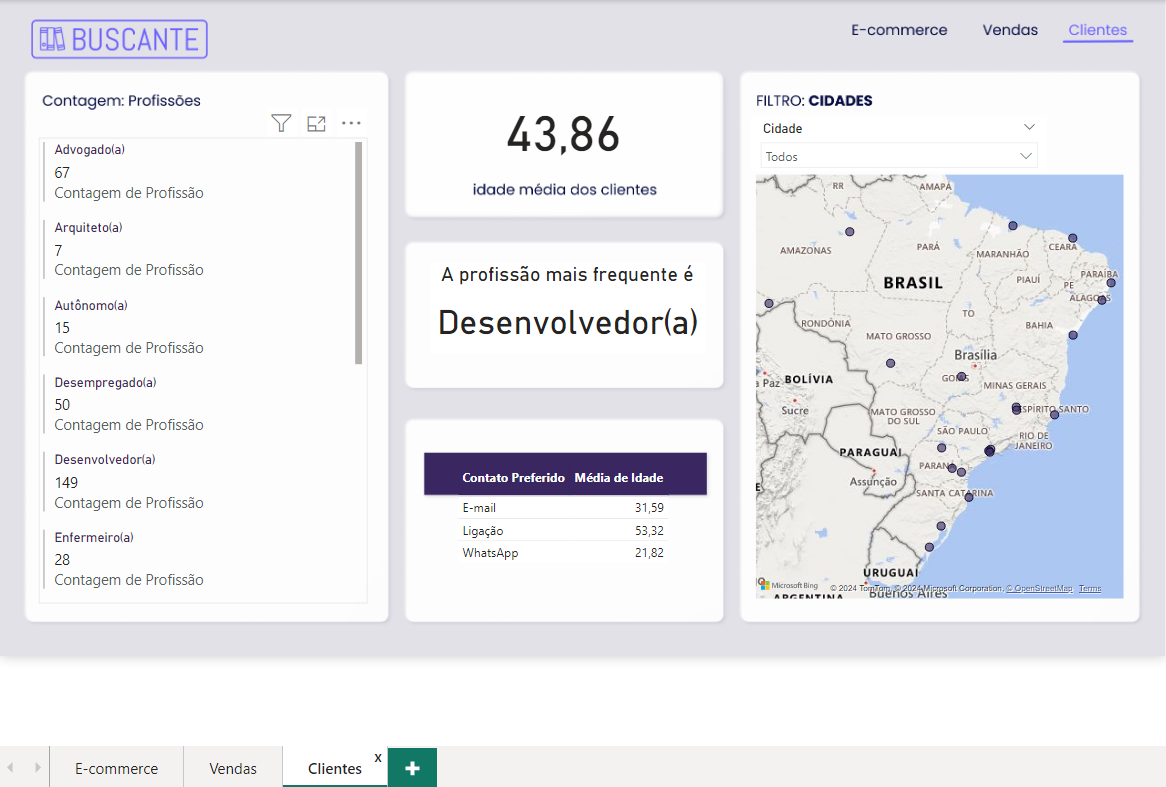

The page's visual inventory and layout, read from the dashboard file:
{"tool":"powerbi","page":{"name":"Clientes","canvas":[1280,720],"ordinal":2},"visuals":[{"type":"multiRowCard","fields":{"Values":["Clientes.Profissão","CountNonNull(Clientes.Profissão)"]},"box":[42.9,151.4,360,511.4],"z":0},{"type":"card","fields":{"Values":["Avg(Clientes.Idade)"]},"box":[485.7,115.7,265.7,71.4],"z":1000},{"type":"card","title":"A profissão mais frequente é","fields":{"Values":["Min(Clientes.Profissão)"]},"box":[471.4,288.6,301.4,100],"z":2000},{"type":"map","fields":{"Y":["Clientes.Latitude"],"X":["Clientes.Longitude"]},"box":[824.3,187.1,414.3,475.7],"z":3000},{"type":"slicer","fields":{"Values":["Clientes.Cidade"]},"box":[824.3,127.1,324.3,60],"z":4000},{"type":"tableEx","fields":{"Values":["Clientes.Contato Preferido","Avg(Clientes.Idade)"]},"box":[497.1,505.7,261.4,157.1],"z":5000},{"type":"actionButton","box":[1058.6,17.1,100,40],"z":6000},{"type":"actionButton","box":[927.1,17.1,120,40],"z":7000}]}

Visuals, with their boxes on the page's 1280x720 design canvas (x1, y1, x2, y2). These are canvas units, not pixel positions in the 1166x787 screenshot, which may show the page scaled, cropped or inside an application window:
multiRowCard - Clientes.Profissão x CountNonNull(Clientes.Profissão): 43, 151, 403, 663
card - Avg(Clientes.Idade): 486, 116, 751, 187
"A profissão mais frequente é" card: 471, 289, 773, 389
map - Clientes.Latitude x Clientes.Longitude: 824, 187, 1239, 663
slicer - Clientes.Cidade: 824, 127, 1149, 187
tableEx - Clientes.Contato Preferido x Avg(Clientes.Idade): 497, 506, 758, 663
actionButton: 1059, 17, 1159, 57
actionButton: 927, 17, 1047, 57
